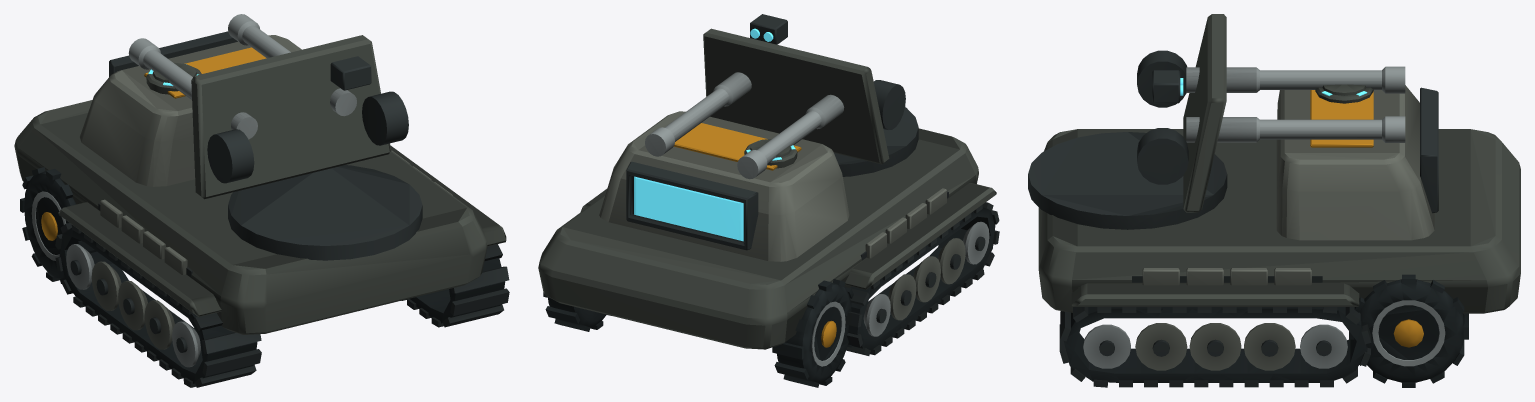
Rendered from FlakHalftrack.glb.
The picture shows the model from 3 angles, left to right: view 1: azimuth 30°, elevation 25°; view 2: azimuth 150°, elevation 25°; view 3: azimuth 270°, elevation 25°; orthographic projection. The views are drawn at different scales.
Parts seen in each view (by area): view 1: export_FlakHalftrack_TrackBelt, export_FlakHalftrack_FLIR_Pod, export_FlakHalftrack_Tread, export_FlakHalftrack_Tread.028; view 2: export_FlakHalftrack_TrackBelt, export_FlakHalftrack_FLIR_Pod, export_FlakHalftrack_Tread; view 3: export_FlakHalftrack_TrackBelt, export_FlakHalftrack_FLIR_Pod, export_FlakHalftrack_Tread.028.
Boxes of the visible parts, box(x1,y1,x2,y2) form: export_FlakHalftrack_TrackBelt: box(14, 31, 506, 383); export_FlakHalftrack_FLIR_Pod: box(128, 14, 408, 199); export_FlakHalftrack_Tread: box(55, 223, 261, 387); export_FlakHalftrack_Tread.028: box(401, 244, 509, 327); export_FlakHalftrack_TrackBelt: box(538, 107, 996, 387); export_FlakHalftrack_FLIR_Pod: box(645, 14, 905, 179); export_FlakHalftrack_Tread: box(845, 202, 999, 355); export_FlakHalftrack_TrackBelt: box(1028, 84, 1520, 387); export_FlakHalftrack_FLIR_Pod: box(1137, 14, 1405, 212); export_FlakHalftrack_Tread.028: box(1059, 307, 1371, 387).
Bounding box in the file's own units: 3.16 × 2.49 × 4.21.
